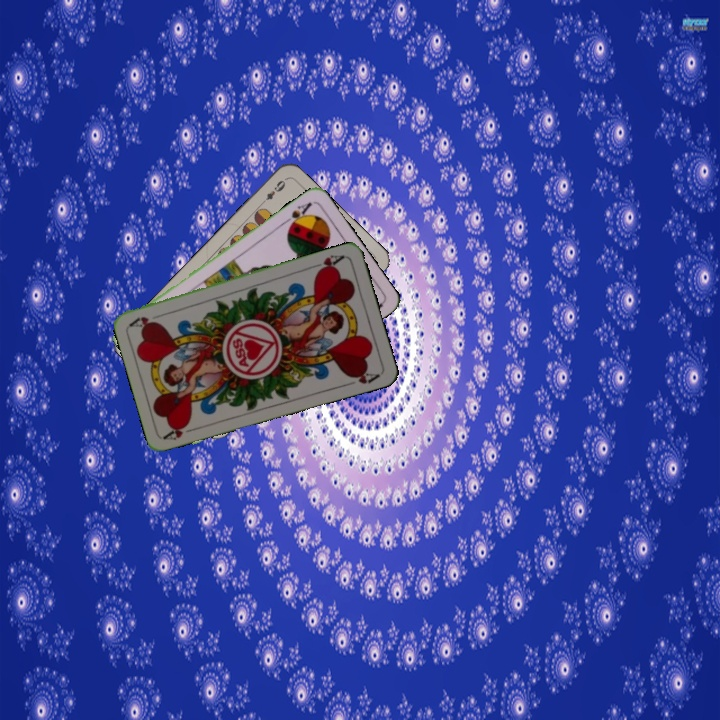E9: (257, 175, 289, 208)
HA: (161, 418, 201, 443), (308, 251, 347, 276)
SA: (279, 198, 315, 231)
